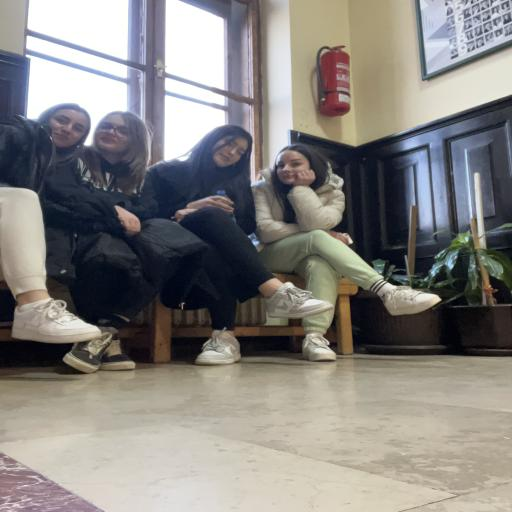marija: (275, 150, 308, 181)
masa: (46, 101, 90, 149)
